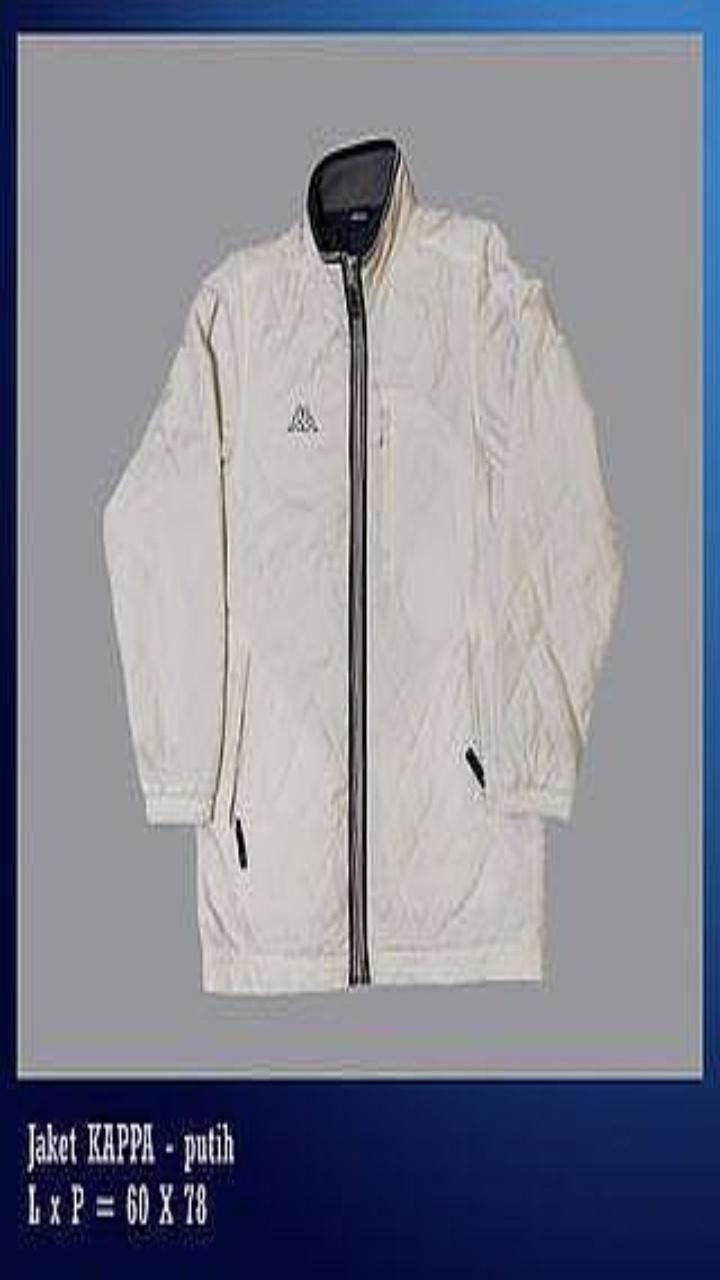Sports_Jacket: (104, 139, 620, 992)
